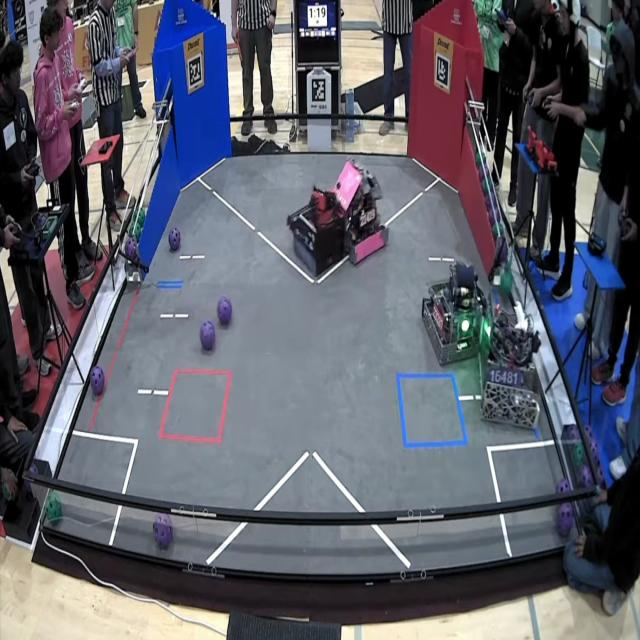artifact_green: (45, 492, 62, 524), (587, 432, 599, 463), (572, 443, 585, 467), (497, 238, 508, 266), (485, 163, 494, 197), (564, 424, 580, 443), (129, 216, 144, 235), (501, 270, 512, 293), (2, 484, 16, 502), (556, 478, 571, 494), (596, 461, 605, 487), (492, 223, 504, 238), (133, 224, 142, 243), (129, 228, 139, 244), (584, 424, 594, 440), (494, 266, 503, 282), (2, 485, 10, 501), (478, 166, 484, 186), (483, 160, 490, 176), (135, 221, 143, 235), (25, 480, 32, 496), (138, 208, 145, 224), (482, 179, 489, 195), (492, 224, 499, 239), (477, 146, 485, 159), (133, 229, 140, 243), (475, 152, 482, 166), (136, 220, 144, 232), (129, 222, 135, 237), (136, 218, 144, 229), (499, 223, 505, 236)
artifact_purple: (153, 514, 174, 550), (556, 504, 574, 537), (200, 321, 216, 351), (90, 366, 105, 396), (217, 296, 232, 325), (578, 465, 593, 487), (169, 228, 181, 252), (125, 237, 137, 260), (565, 424, 580, 441), (589, 438, 599, 463), (498, 240, 508, 264), (596, 461, 605, 487), (484, 195, 492, 224), (488, 205, 499, 226), (556, 479, 570, 494), (584, 424, 594, 439), (478, 166, 485, 183), (29, 464, 38, 476), (29, 464, 38, 475)
